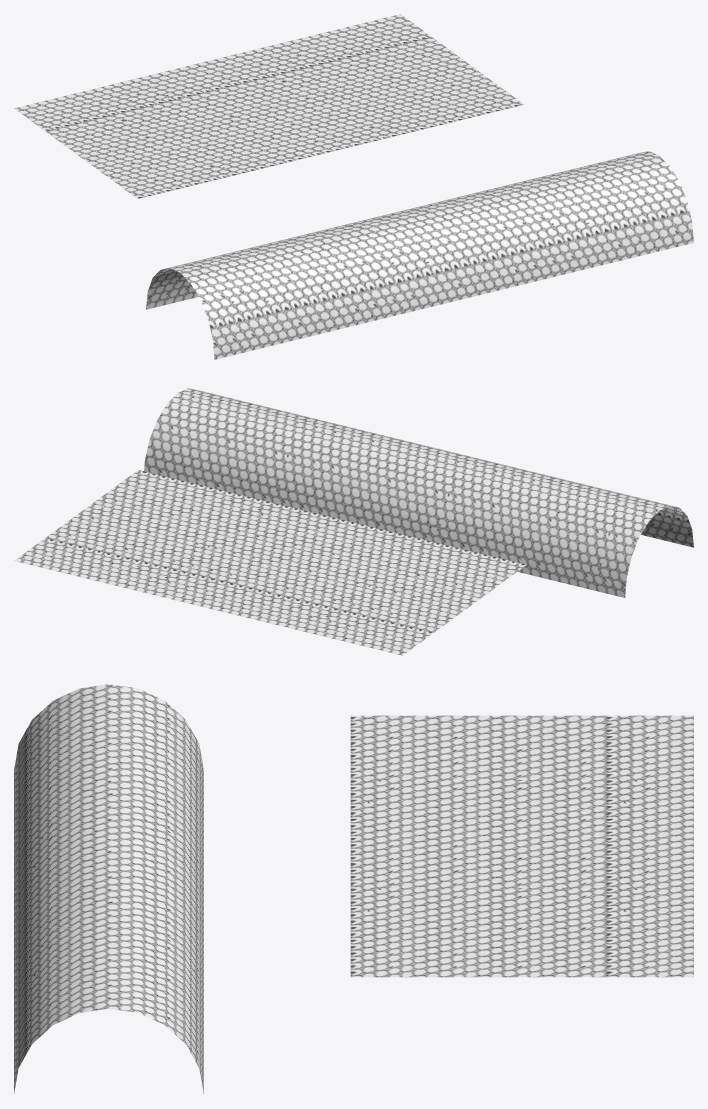
File: nettings.fbx
The picture shows the model from 3 angles, top to bottom: view 1: azimuth 30°, elevation 25°; view 2: azimuth 150°, elevation 25°; view 3: azimuth 270°, elevation 25°; orthographic projection. The views are drawn at different scales.
Parts seen in each view (by area): view 1: clinder_netting, plane_netting; view 2: clinder_netting, plane_netting; view 3: plane_netting, clinder_netting.
Boxes of the visible parts, x1,y1,x2,y2 form: clinder_netting: (146, 151, 693, 359); plane_netting: (14, 14, 523, 198); clinder_netting: (144, 388, 693, 597); plane_netting: (14, 470, 526, 655); plane_netting: (350, 715, 693, 977); clinder_netting: (14, 684, 203, 1093).
Size of the model in its own units: 13.23 by 1.64 by 11.71.
Materials: 1 (1 with a texture image).
